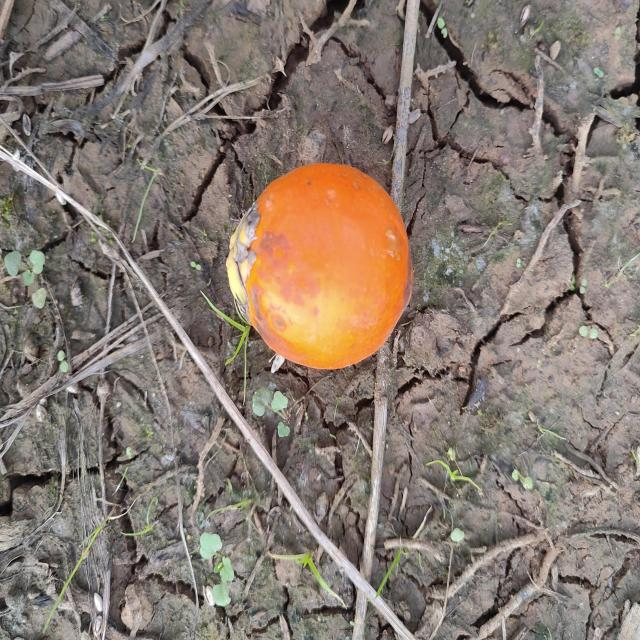good: (227, 164, 412, 373)
